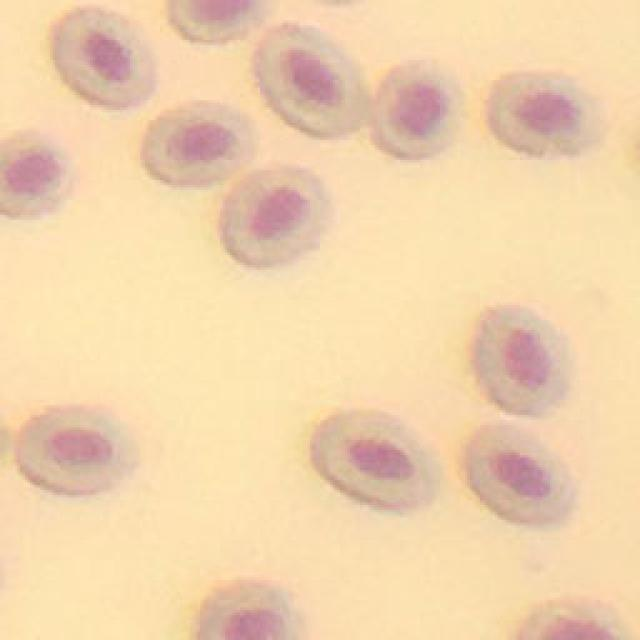RBC: (258, 22, 365, 138), (312, 412, 435, 510), (468, 422, 575, 525), (475, 308, 574, 415), (18, 408, 138, 496), (220, 168, 325, 268), (52, 8, 155, 108), (490, 72, 605, 155), (142, 102, 255, 185), (375, 60, 462, 160), (0, 130, 72, 220), (198, 585, 300, 639), (518, 598, 635, 639), (170, 1, 268, 42)
